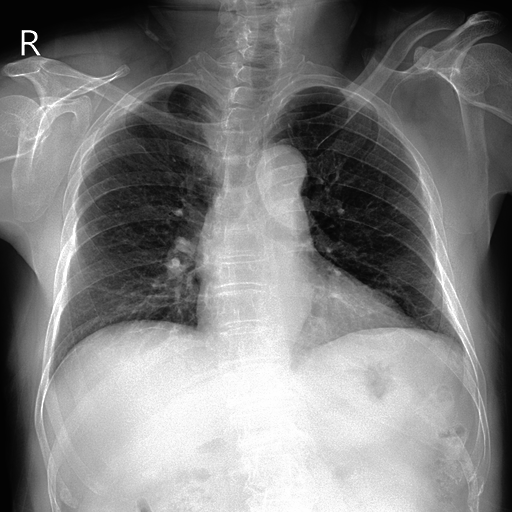Calcification: (114, 79, 180, 119)
Consolidation: (247, 147, 307, 191)
Nodule/Mass: (194, 287, 412, 338)
